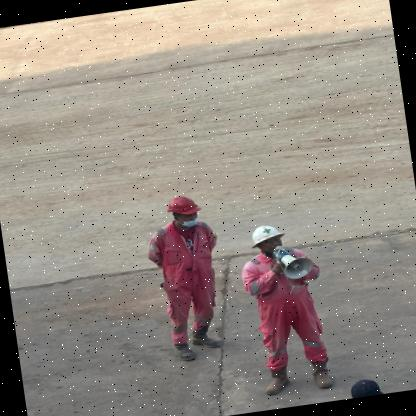bota: (256, 362, 295, 398), (189, 322, 226, 354), (306, 358, 338, 392), (167, 336, 200, 364)
